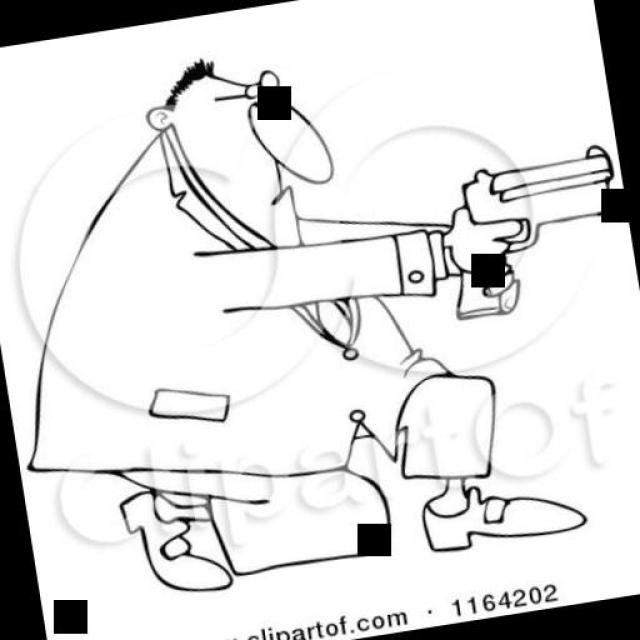gun: (420, 142, 630, 322)
